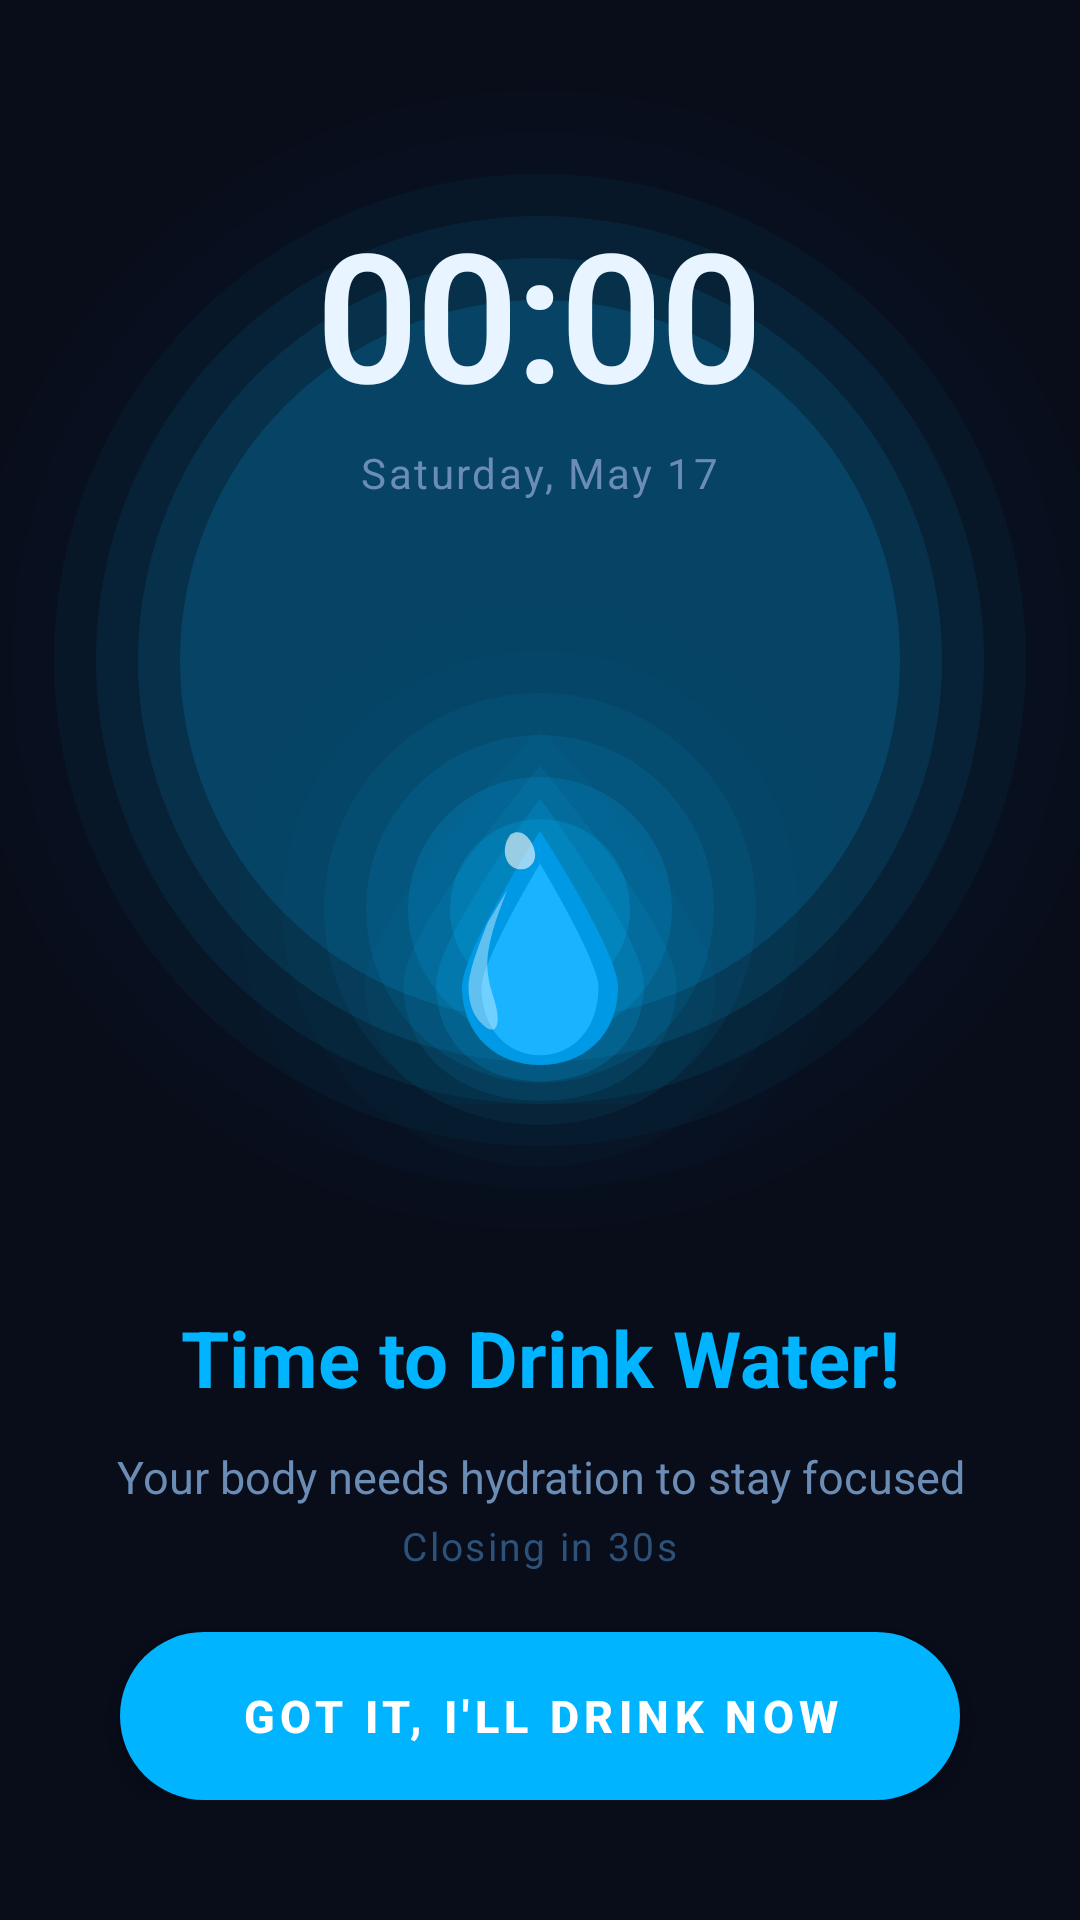

Where icons sit on this 1080 x 1920 app screen, as {"x1": x1, "y1": y1, "x2": x2, "y2": y2}:
water glow: {"x1": 404, "y1": 767, "x2": 676, "y2": 1065}
